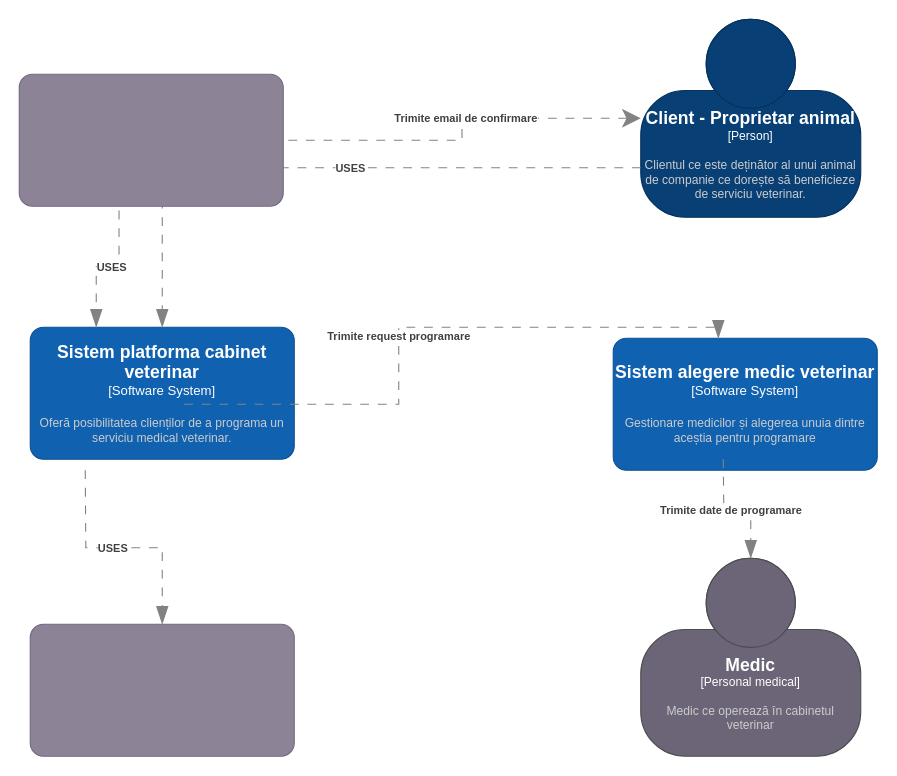
Some shapes in this 897 by 776 pixel diagram are drawn without their labels. Here are the shapes that lost their labels. From the top down, the box of each, then its label:
(18, 73, 283, 206): External system name [Software System] Description of external software system.
(29, 623, 294, 756): Sistem de plati [Software System] Sistem extern de gestionare a plății
